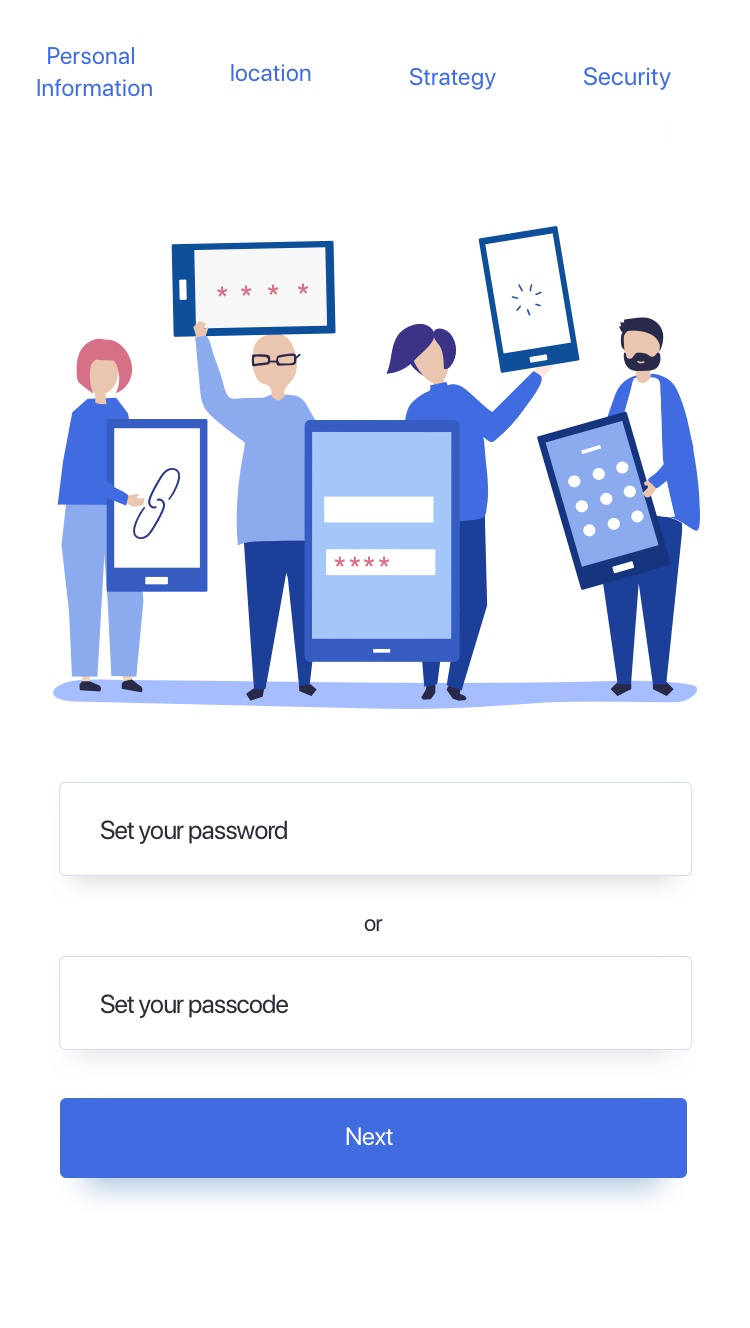EditText: (59, 955, 693, 1051), (59, 782, 693, 877)
Image: (53, 226, 701, 711)
Text: (37, 47, 153, 98), (101, 820, 288, 845), (101, 995, 290, 1019), (583, 67, 672, 92), (410, 68, 497, 92), (230, 64, 312, 83), (365, 918, 384, 932)
TextButton: (60, 1097, 688, 1179)
